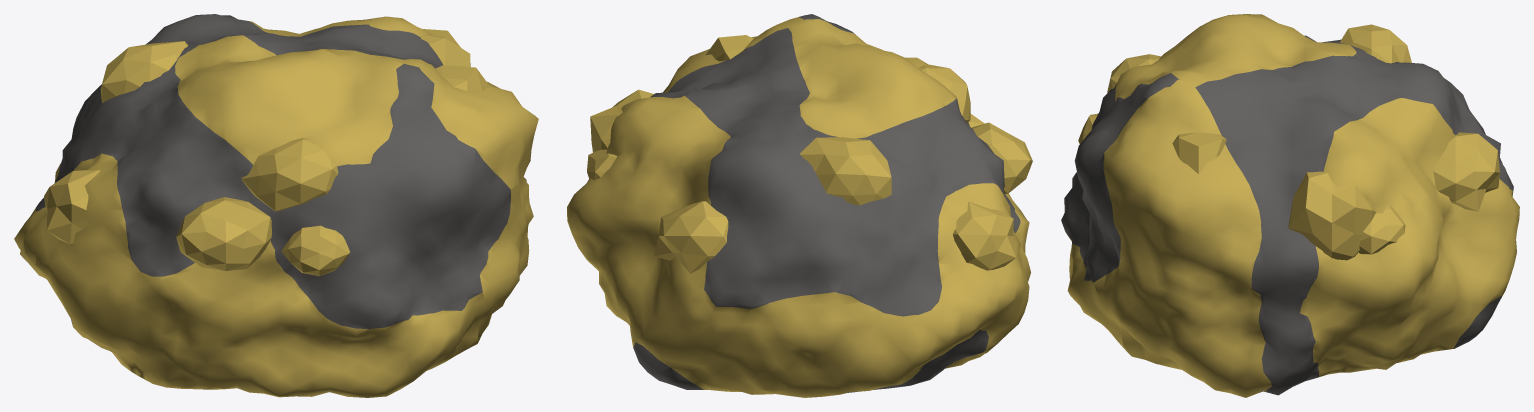
The model's file is yellow_limonite_deep.glb.
The picture shows the model from 3 angles, left to right: view 1: azimuth 30°, elevation 25°; view 2: azimuth 150°, elevation 25°; view 3: azimuth 270°, elevation 25°; orthographic projection. The views are drawn at different scales.
Visible parts, largest first — view 1: yellow_limonite_deep; view 2: yellow_limonite_deep; view 3: yellow_limonite_deep.
Part boxes in pixels (bbox=[...]): yellow_limonite_deep: bbox=[14, 14, 538, 397]; yellow_limonite_deep: bbox=[567, 14, 1032, 397]; yellow_limonite_deep: bbox=[1061, 14, 1519, 397].
Size of the model in its own units: 1.78 by 1.07 by 1.68.
